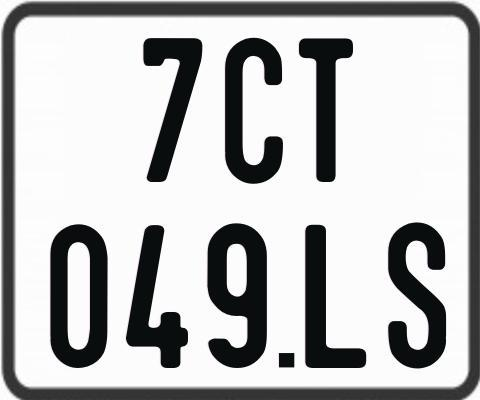0: (49, 221, 107, 370)
4: (123, 225, 187, 374)
7: (143, 35, 207, 181)
9: (207, 221, 272, 367)
C: (223, 37, 286, 187)
L: (305, 225, 370, 371)
S: (385, 220, 444, 369)
T: (299, 38, 353, 186)
